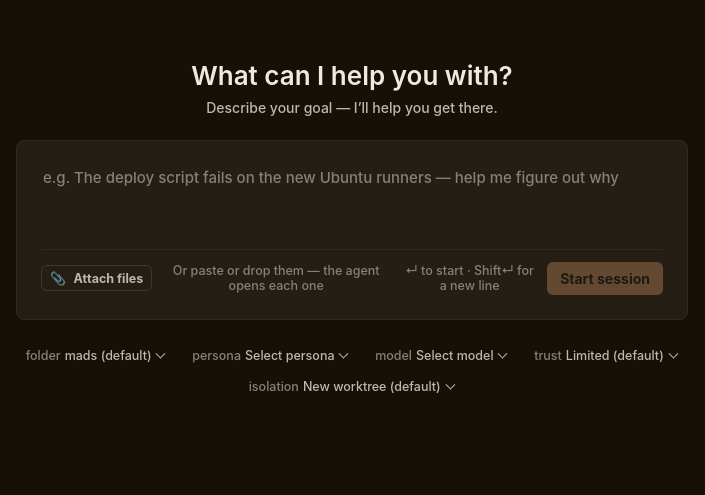
Test: Launchpad folder + defaults › warns below the pills when a plain folder meets worktree isolation
The image size is (705, 495).
Click the button "folder mads (default)" at x=96, y=355, box [17,344,175,367]
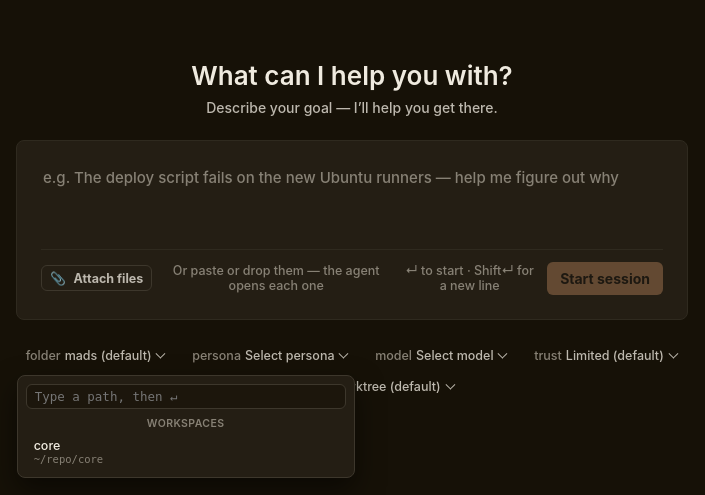
Type "/tmp/notes" into the field named "Folder path" at x=186, y=396, box [26,384,346,409]
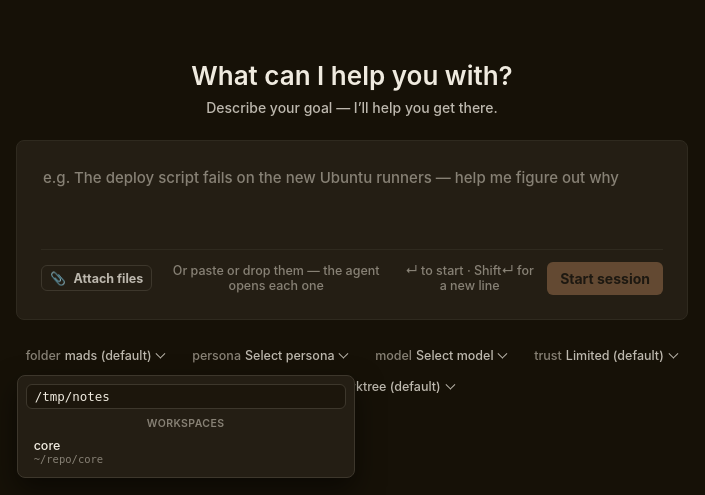
Press Enter in the field named "Folder path", box [26,384,346,409]
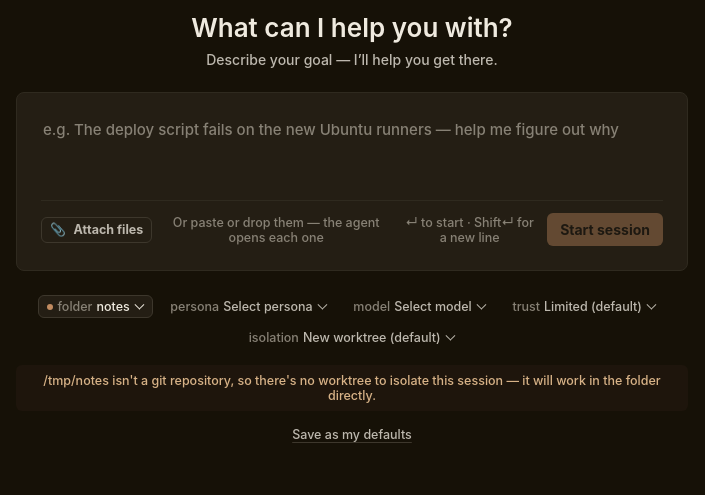
Expected: the message shows "/tmp/notes isn't a git repository", [43,373,661,403]
Click the button "isolation New worktree (default)" at x=352, y=338, box [240,326,464,349]
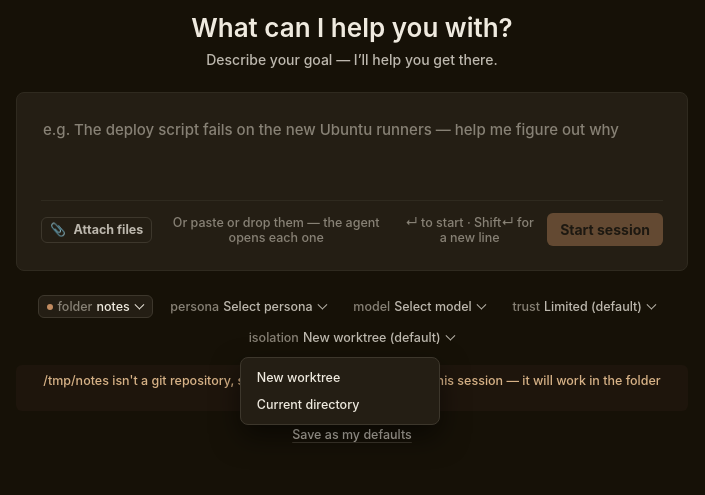
Click the button "Current directory" at x=340, y=405, box [249,393,431,416]
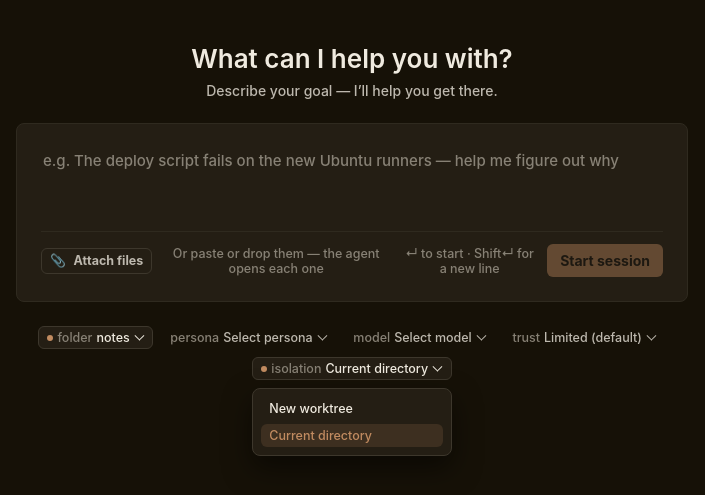
Expected: the text "isn't a git repository" is gone
